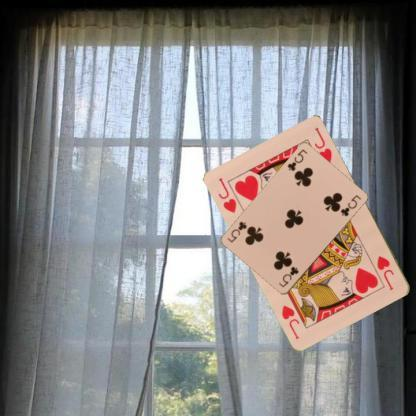5c: (276, 264, 300, 289), (284, 147, 308, 172)
Jh: (216, 175, 238, 215), (374, 254, 396, 291)
